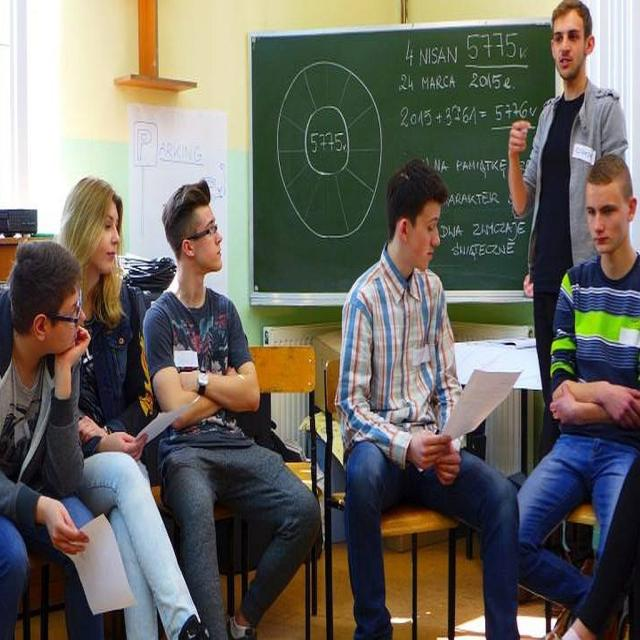body: (332, 153, 529, 639), (139, 176, 324, 639), (58, 176, 214, 640), (514, 153, 640, 633), (506, 0, 630, 469), (0, 236, 107, 640), (556, 450, 640, 639)
